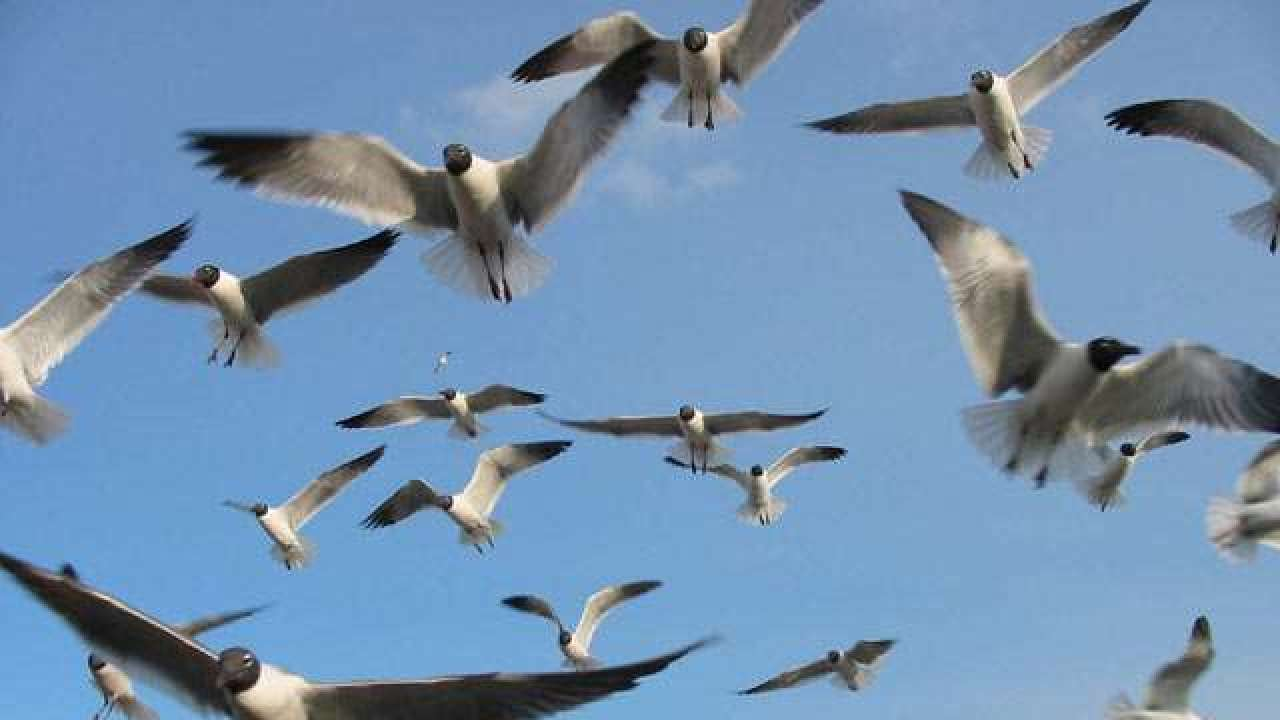Bird: (178, 32, 655, 313), (0, 536, 722, 714), (888, 182, 1277, 492), (796, 4, 1158, 193), (61, 221, 413, 373), (0, 203, 198, 457), (507, 5, 823, 142), (54, 562, 272, 716), (1104, 90, 1279, 268), (533, 381, 827, 474), (361, 436, 576, 559), (216, 439, 389, 572), (652, 426, 854, 533), (481, 570, 670, 680), (1087, 597, 1233, 714), (323, 375, 549, 445), (1052, 419, 1194, 516), (737, 630, 901, 704), (1196, 426, 1280, 564)
